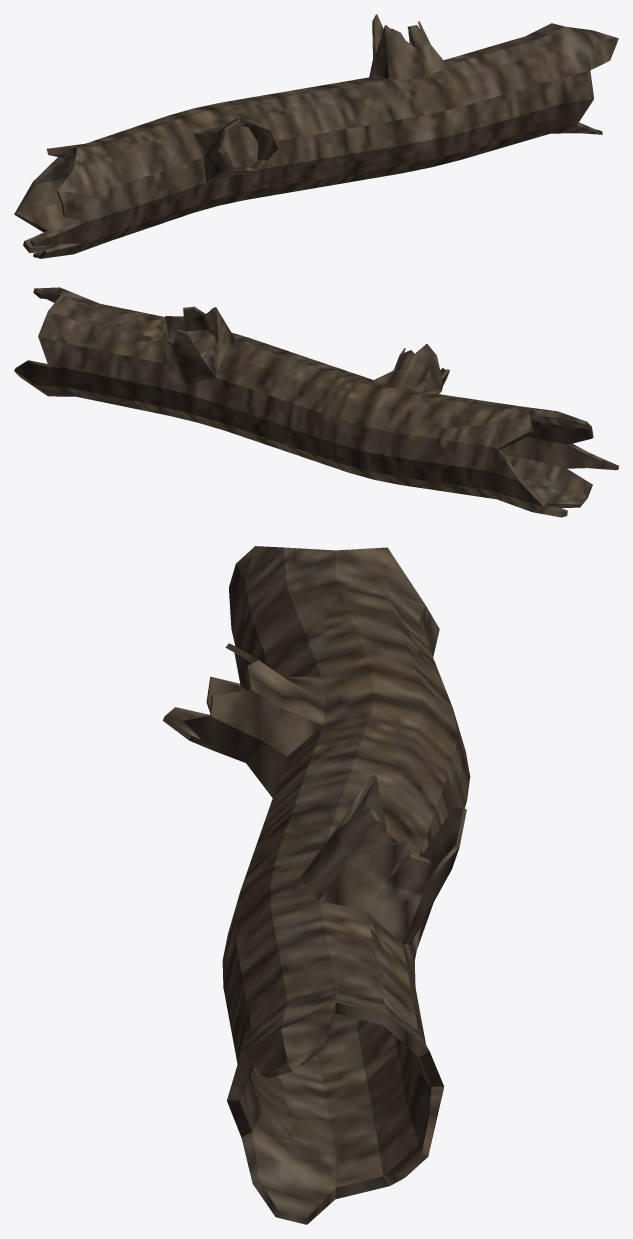
Rendered from Tree14.fbx.
The picture shows the model from 3 angles, top to bottom: view 1: azimuth 30°, elevation 25°; view 2: azimuth 150°, elevation 25°; view 3: azimuth 270°, elevation 25°; orthographic projection. The views are drawn at different scales.
Visible parts, largest first — view 1: trunk_03; view 2: trunk_03; view 3: trunk_03.
Boxes of the visible parts, x1=… form: trunk_03: x1=14, y1=14, x2=618, y2=258; trunk_03: x1=14, y1=287, x2=618, y2=517; trunk_03: x1=163, y1=546, x2=470, y2=1224.
Size of the model in its own units: 5.63 by 1.27 by 1.31.
